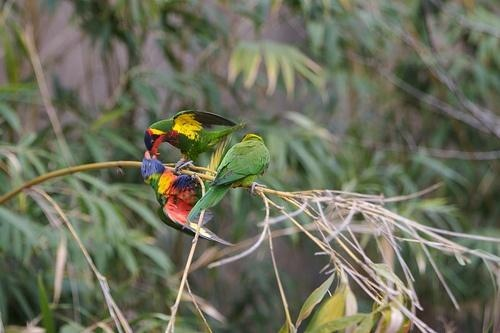bird: (143, 149, 237, 246), (185, 133, 271, 227), (144, 110, 242, 163)
